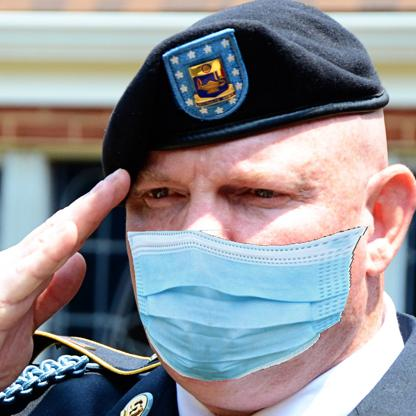mask: (122, 228, 363, 378)
